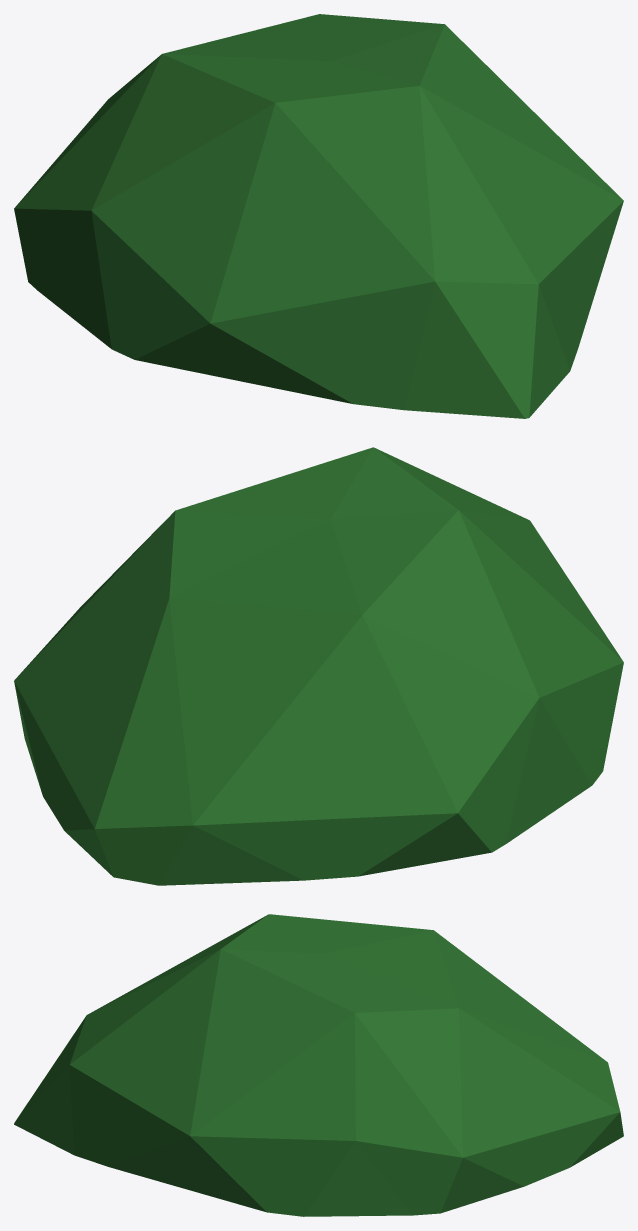
Rendered from BushUpdate.fbx.
The picture shows the model from 3 angles, top to bottom: view 1: azimuth 30°, elevation 25°; view 2: azimuth 150°, elevation 25°; view 3: azimuth 270°, elevation 25°; orthographic projection. The views are drawn at different scales.
Parts seen in each view (by area): view 1: Bush; view 2: Bush; view 3: Bush.
Part boxes in pixels (box(x1,y1,x2,y2)): Bush: box(14, 14, 623, 418); Bush: box(14, 447, 623, 885); Bush: box(14, 914, 623, 1216).
Bounding box in the file's own units: 71.46 × 33.89 × 100.
